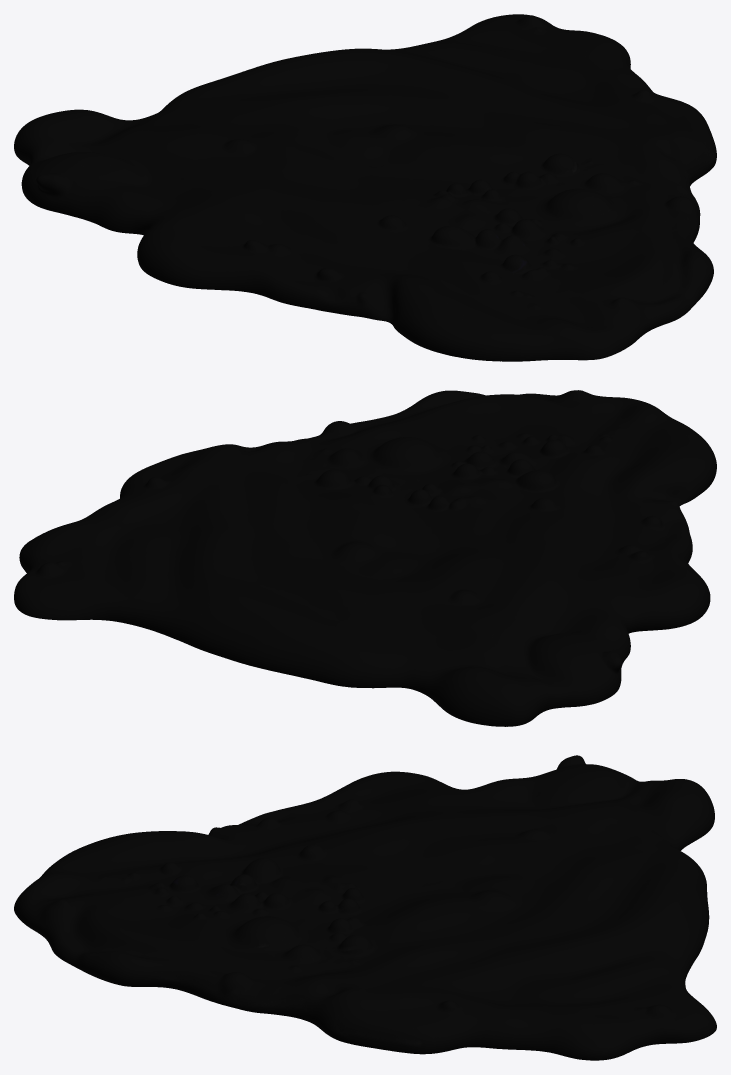
File: oil_slick.glb
3 renders of one model, top to bottom at view 1: azimuth 30°, elevation 25°; view 2: azimuth 150°, elevation 25°; view 3: azimuth 270°, elevation 25°, orthographic. The views are drawn at different scales.
Bounding box in the file's own units: 1.77 × 0.1181 × 1.9.
1 material, 1 textured.
